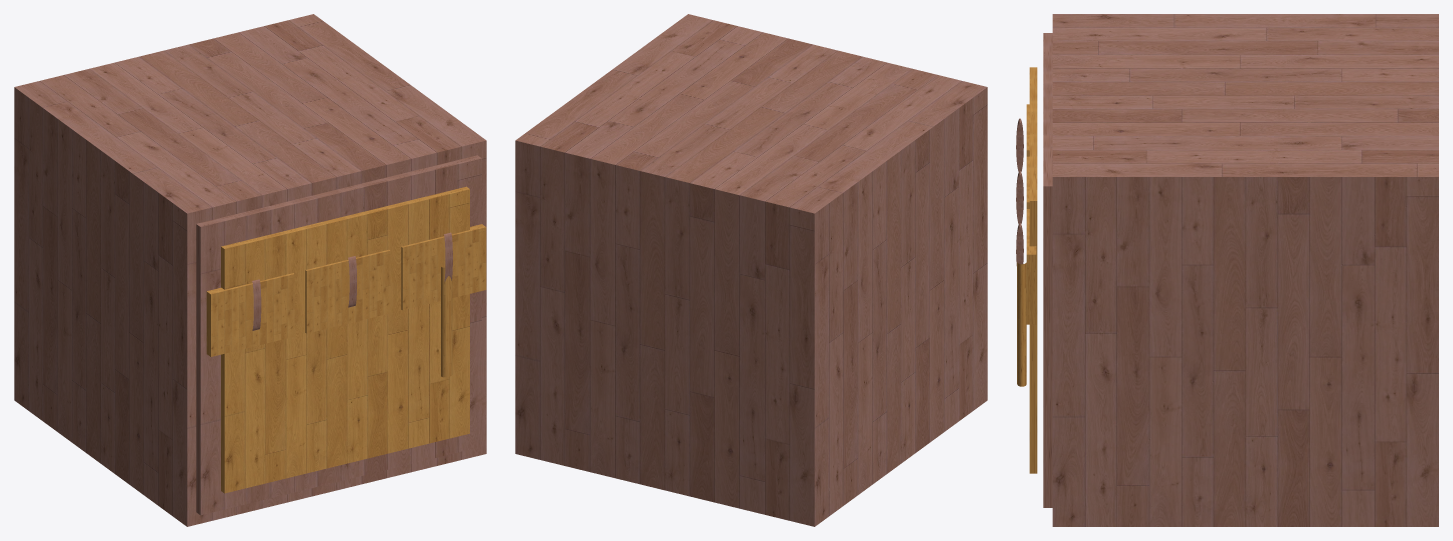
The model's file is cabinet.gltf.
The picture shows the model from 3 angles, left to right: view 1: azimuth 30°, elevation 25°; view 2: azimuth 150°, elevation 25°; view 3: azimuth 270°, elevation 25°; orthographic projection. The views are drawn at different scales.
Parts seen in each view (by area): view 1: body, panel, front, drawer_-0.32, drawer_0, drawer_0.32, handle; view 2: body; view 3: body, front, panel, handle, drawer_0.32.
Boxes of the visible parts, bbox=[...] form: body: bbox=[14, 14, 486, 526]; panel: bbox=[221, 186, 469, 493]; front: bbox=[196, 155, 481, 515]; drawer_-0.32: bbox=[206, 273, 294, 356]; drawer_0: bbox=[305, 250, 390, 333]; drawer_0.32: bbox=[401, 224, 486, 310]; handle: bbox=[441, 267, 452, 377]; body: bbox=[515, 14, 987, 526]; body: bbox=[1052, 14, 1438, 526]; front: bbox=[1043, 33, 1052, 507]; panel: bbox=[1029, 67, 1037, 473]; handle: bbox=[1017, 262, 1026, 386]; drawer_0.32: bbox=[1026, 209, 1036, 324].
Bounding box in the file's own units: 1 × 1 × 1.09.
Materials: 3 (3 with a texture image).
